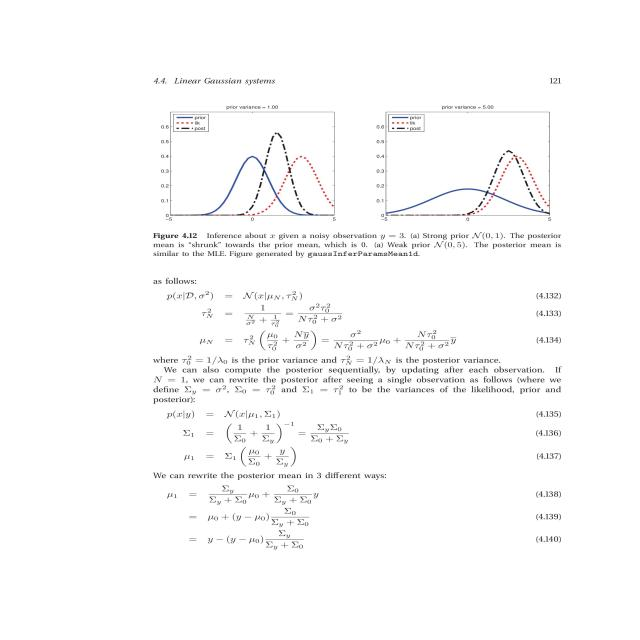diagram: (118, 66, 620, 260)
